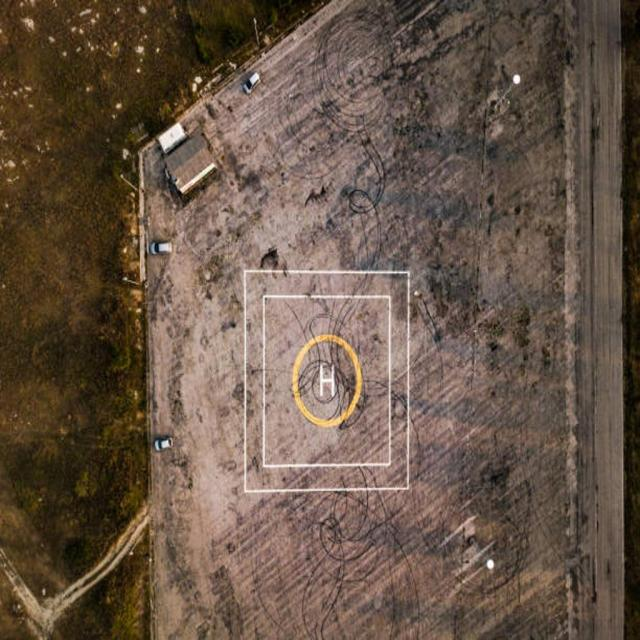helipad: (290, 333, 362, 427)
